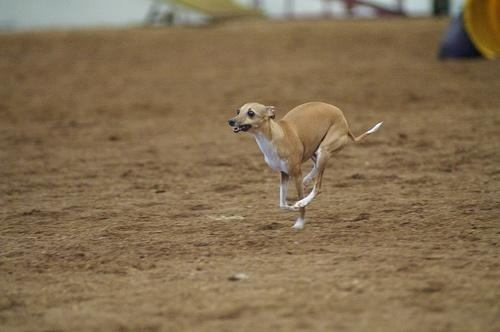dog: (229, 102, 386, 230)
